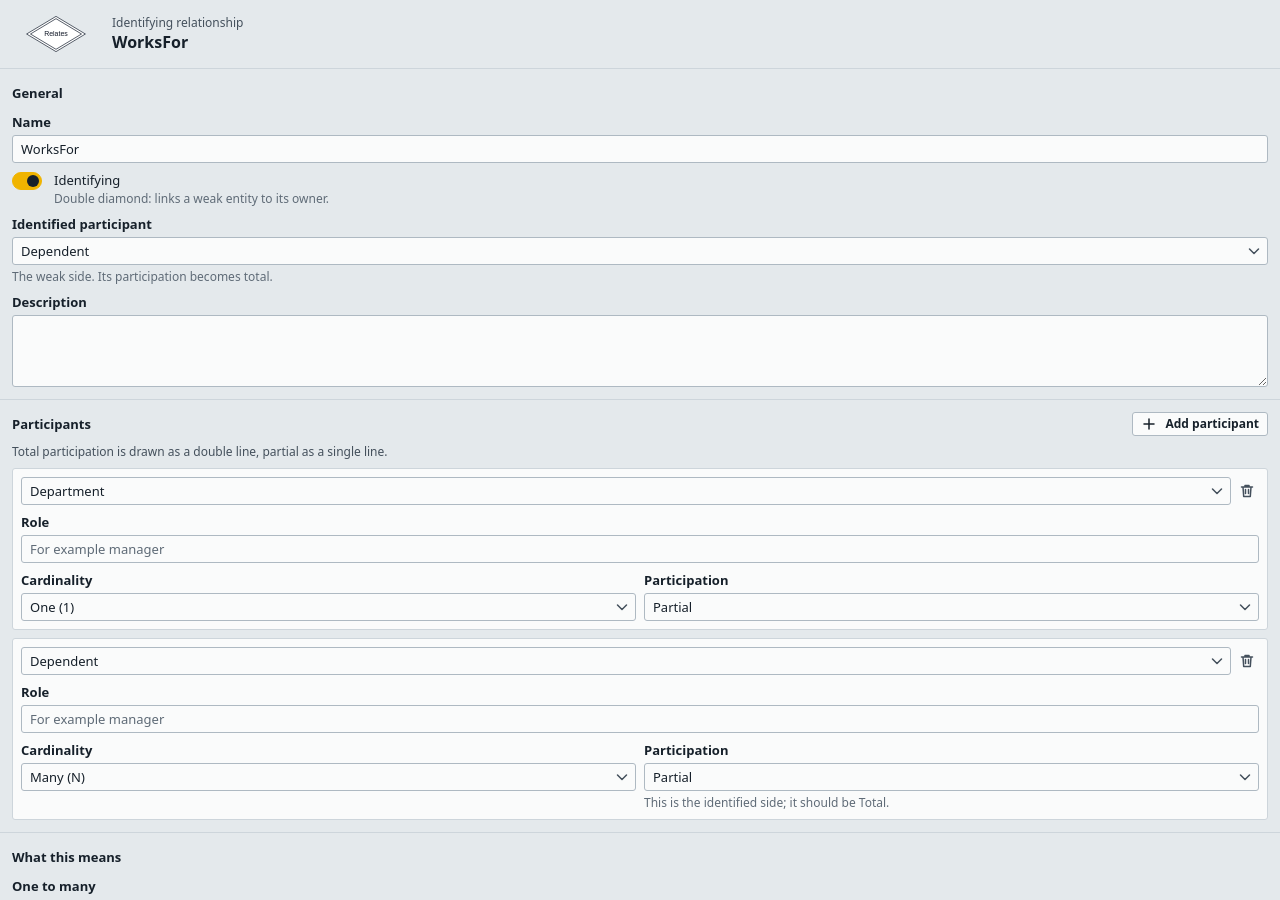
Test: relationship panel › identified-side hint is accurate: "Total" only when it is total, otherwise "should be Total"
Check: the text "This is the identified side; it should be Total." is shown, box x1=644 y1=794 x2=889 y2=811
Check: the text "Total, because it is the identified side." is not shown
Select "Total" in the dropdown named "Participation, participant 2": (952, 777) x1=644 y1=763 x2=1259 y2=791
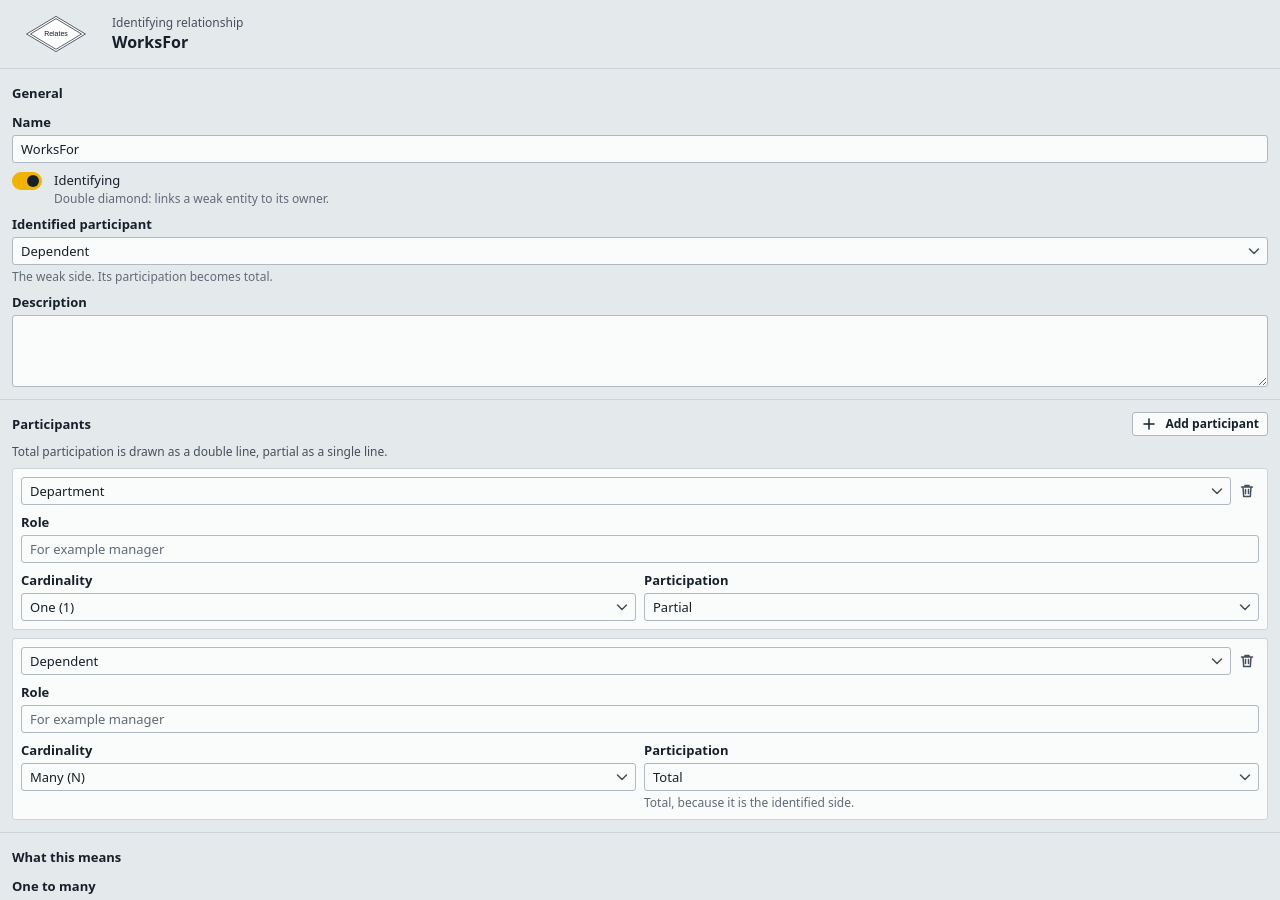
Check: the text "Total, because it is the identified side." is shown, box x1=644 y1=794 x2=854 y2=811
